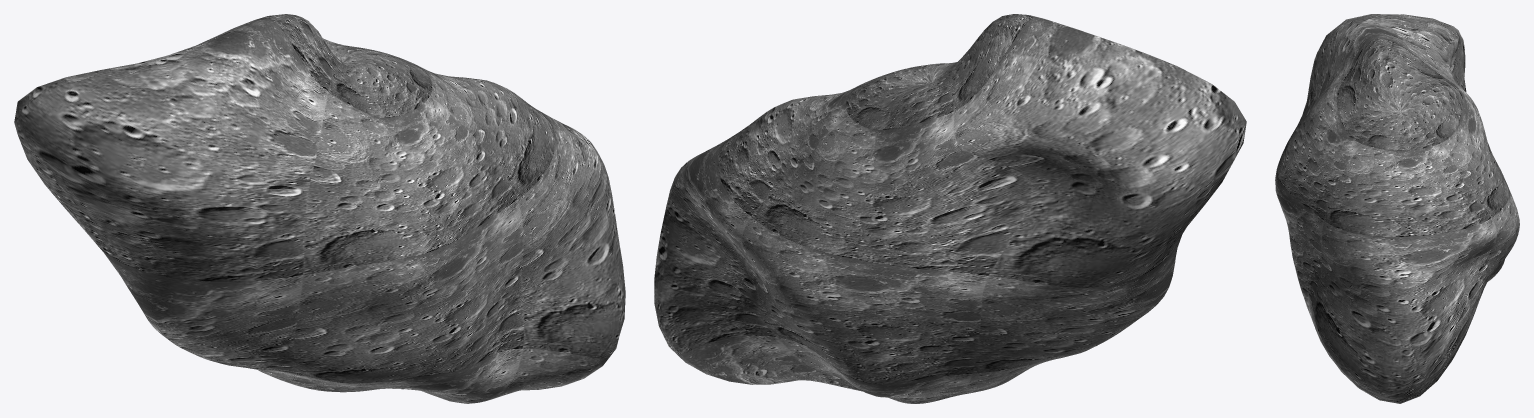
File: asteroide IDA.fbx
The picture shows the model from 3 angles, left to right: view 1: azimuth 30°, elevation 25°; view 2: azimuth 150°, elevation 25°; view 3: azimuth 270°, elevation 25°; orthographic projection. The views are drawn at different scales.
Parts seen in each view (by area): view 1: nurbsToPoly2; view 2: nurbsToPoly2; view 3: nurbsToPoly2.
Part boxes in pixels (<box>): nurbsToPoly2: <box>14,14,625,403</box>; nurbsToPoly2: <box>654,14,1246,403</box>; nurbsToPoly2: <box>1275,14,1519,403</box>.
Size of the model in its own units: 13.54 by 9.74 by 7.97.
1 material, 1 textured.
